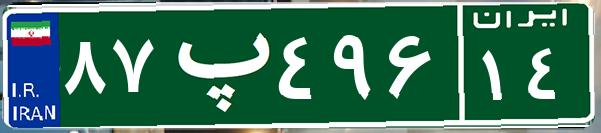1: (475, 38, 525, 113)
4: (273, 28, 330, 110), (525, 38, 570, 115)
6: (385, 28, 445, 110)
7: (110, 28, 158, 105)
8: (57, 26, 110, 107)
9: (330, 28, 385, 110)
پ: (158, 15, 273, 115)
